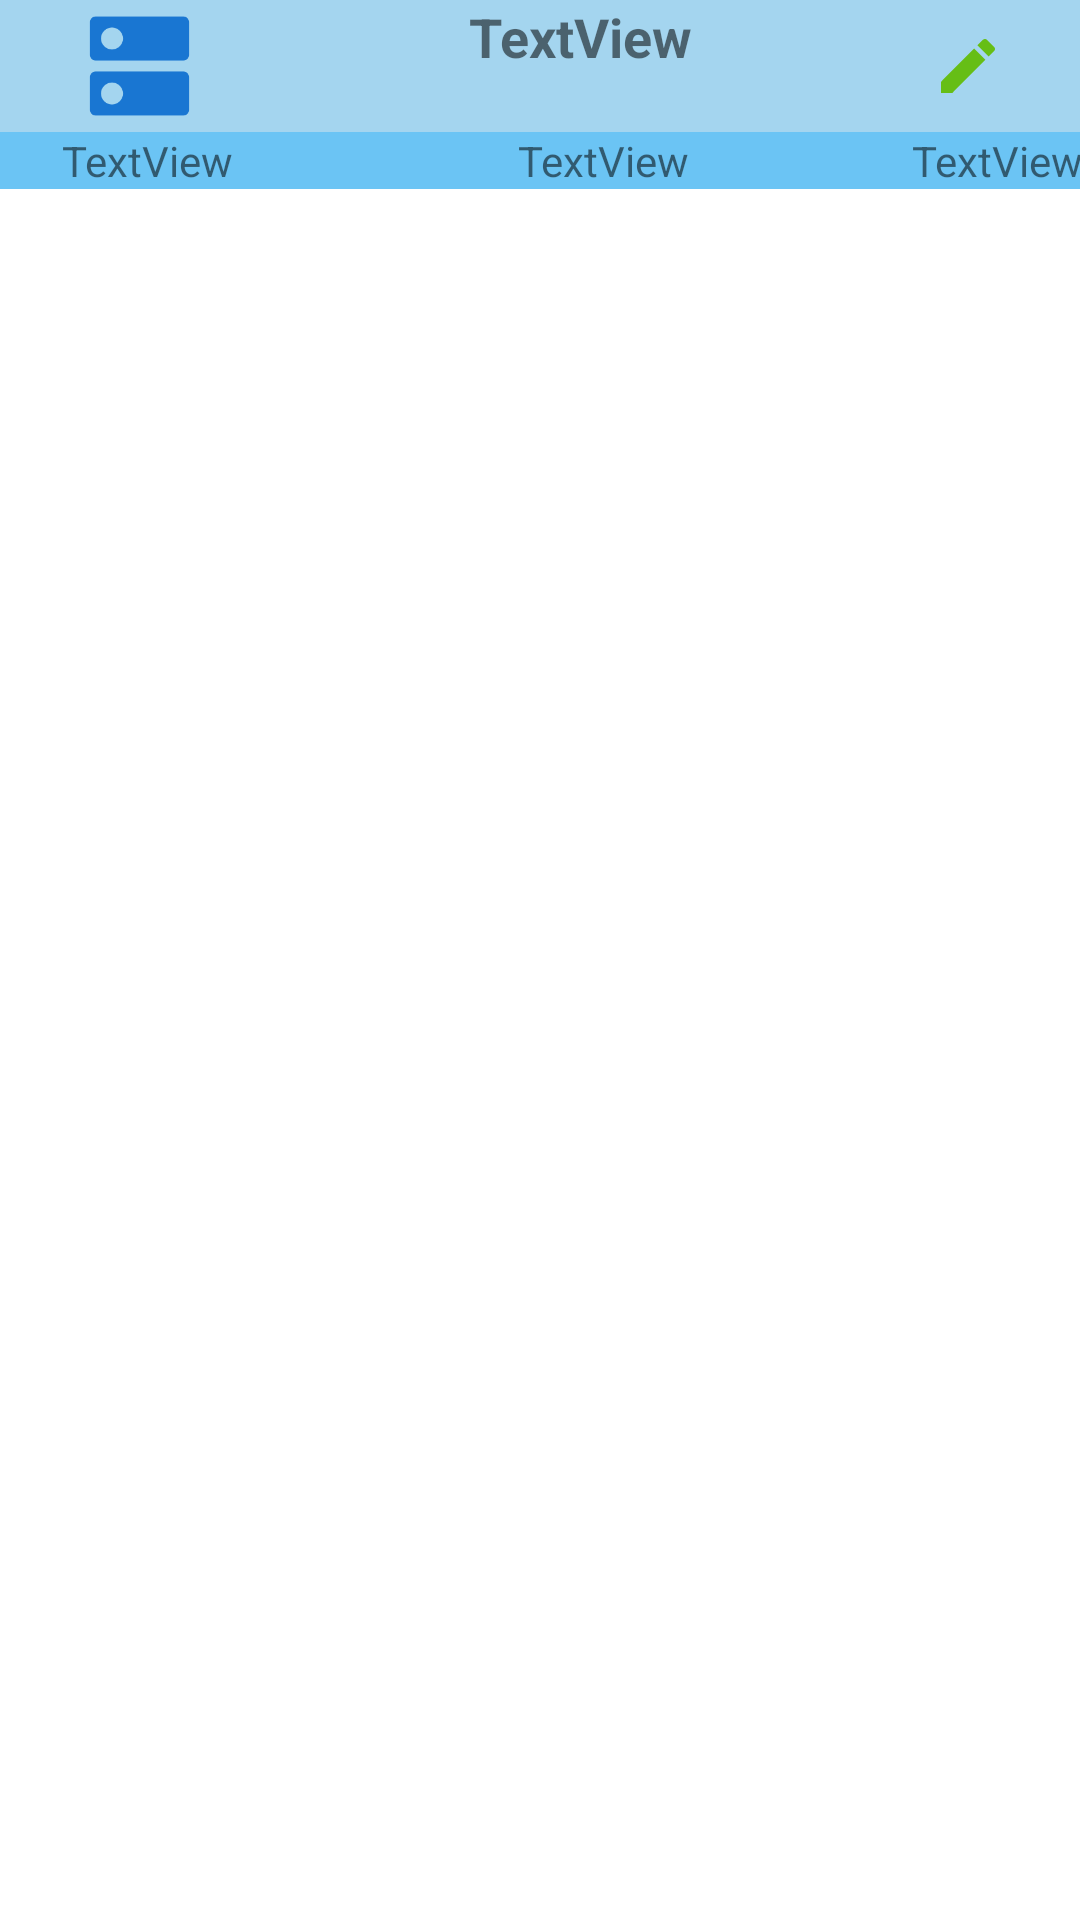

Screen size 1080×1920. Icon name, then its box in pixels as (x1, y1, x2, y2):
edit: (941, 39, 995, 93)
equipos: (90, 16, 189, 116)
